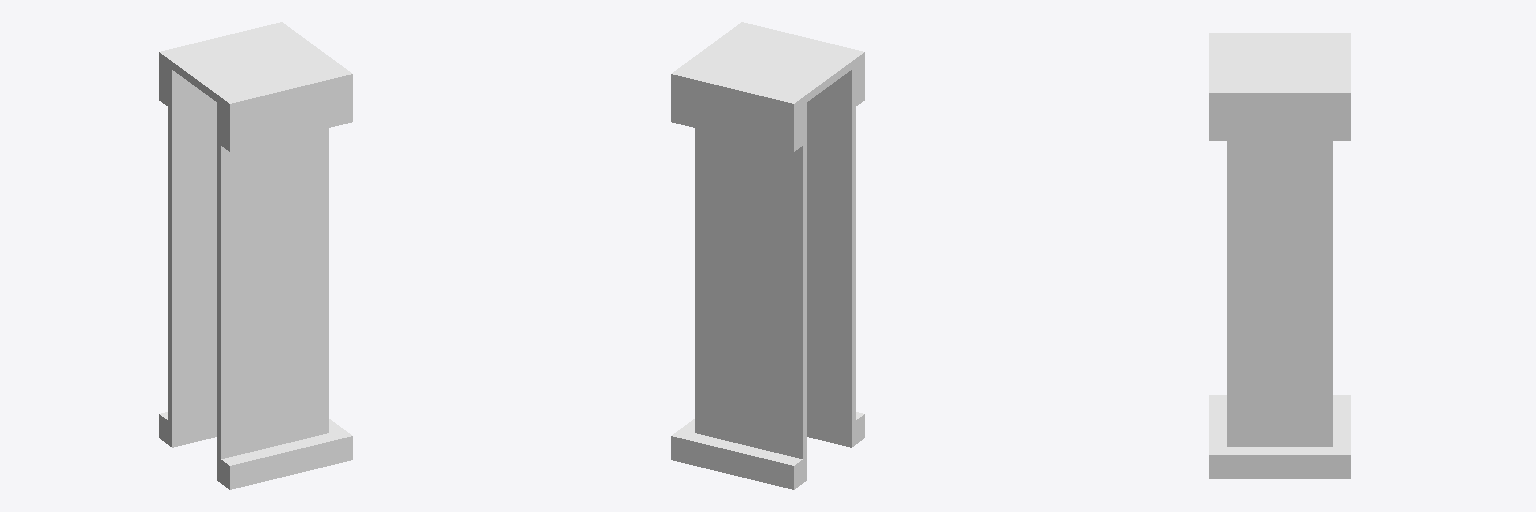
The model's file is End_A.obj.
3 views of the same model, side by side, from view 1: azimuth 30°, elevation 25°; view 2: azimuth 150°, elevation 25°; view 3: azimuth 270°, elevation 25° (orthographic).
Visible parts, largest first — view 1: object 1; view 2: object 1; view 3: object 1.
Part boxes in pixels (x1,y1,x2,y2): object 1: (159, 22, 352, 489); object 1: (671, 22, 864, 489); object 1: (1209, 33, 1350, 478).
Bounding box in the file's own units: 1.6 × 4.8 × 1.6.